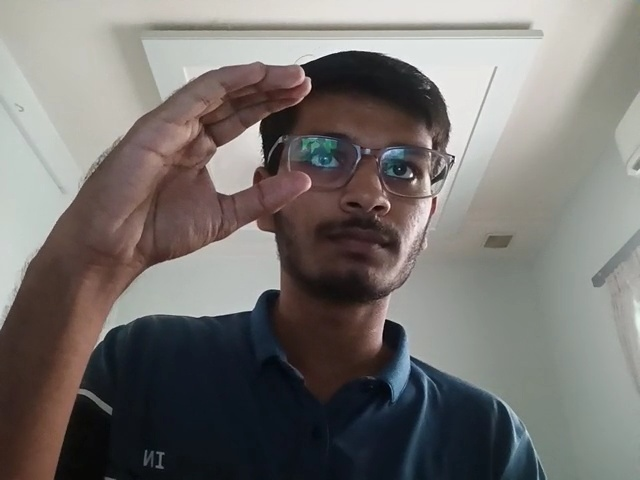No: (68, 55, 322, 269)
